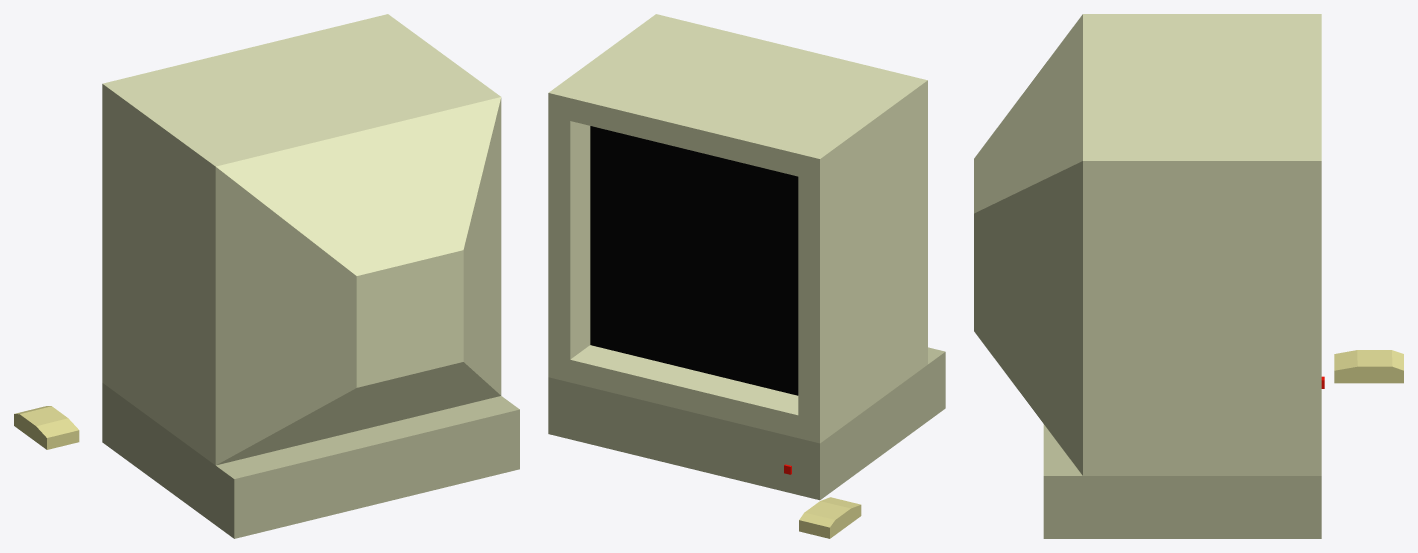
Rendered from monitor-test.glb.
The picture shows the model from 3 angles, left to right: view 1: azimuth 30°, elevation 25°; view 2: azimuth 150°, elevation 25°; view 3: azimuth 270°, elevation 25°; orthographic projection. The views are drawn at different scales.
Parts seen in each view (by area): view 1: monitor, pc, mouse; view 2: monitor, pc, mouse; view 3: monitor, pc, mouse.
Boxes of the visible parts, x1,y1,x2,y2 form: monitor: (102,14,501,465); pc: (102,383,519,538); mouse: (14,406,79,449); monitor: (548,14,927,443); pc: (548,347,945,500); mouse: (799,497,861,538); monitor: (974,14,1321,475); pc: (1043,424,1321,538); mouse: (1334,350,1403,383).
Size of the model in its own units: 2.35 by 2.4 by 2.47.
